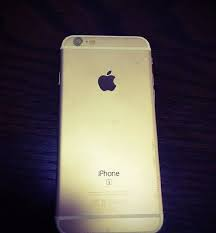mobil: (52, 30, 165, 232)
